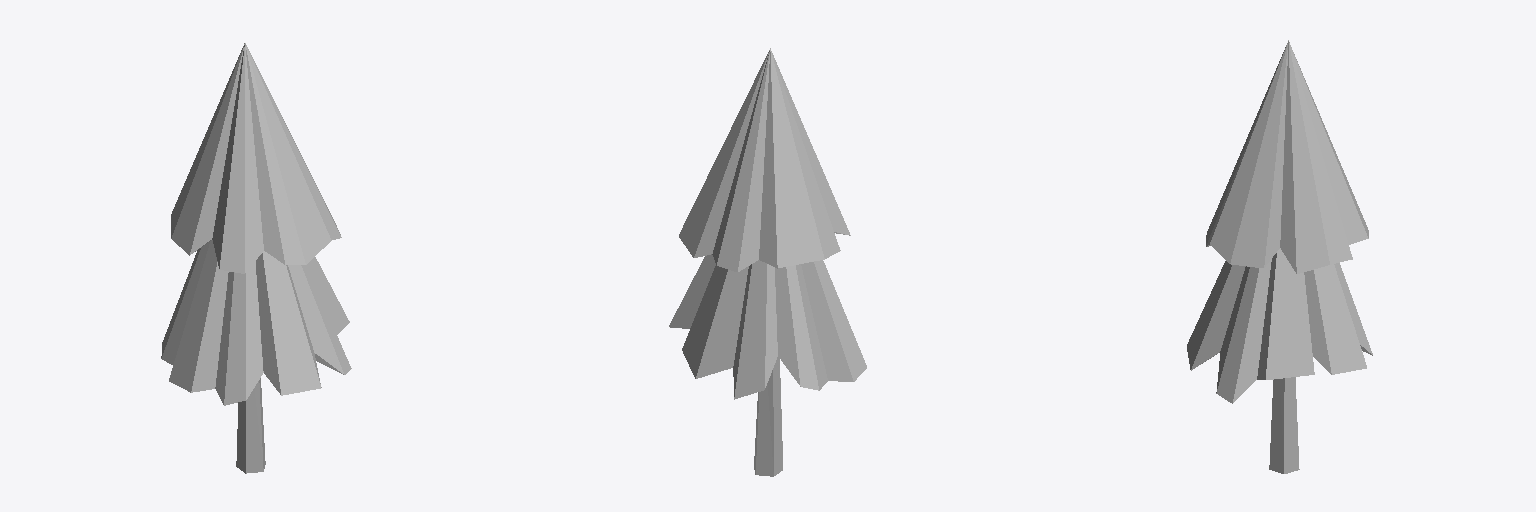
The model's file is Forest_A_FirTree_22.obj.
3 views of the same model, side by side, from view 1: azimuth 30°, elevation 25°; view 2: azimuth 150°, elevation 25°; view 3: azimuth 270°, elevation 25° (orthographic).
Visible parts, largest first — view 1: Forest_A_FirTree_22; view 2: Forest_A_FirTree_22; view 3: Forest_A_FirTree_22.
Part boxes in pixels (left/top/right/bottom): Forest_A_FirTree_22: left=161, top=43, right=351, bottom=473; Forest_A_FirTree_22: left=669, top=48, right=866, bottom=476; Forest_A_FirTree_22: left=1187, top=40, right=1372, bottom=473.
Size of the model in its own units: 120 by 282 by 112.